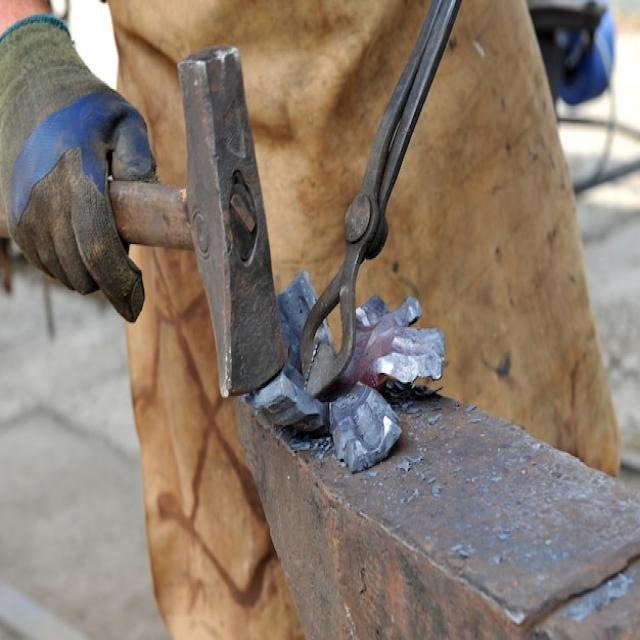hammer: (72, 27, 305, 396)
